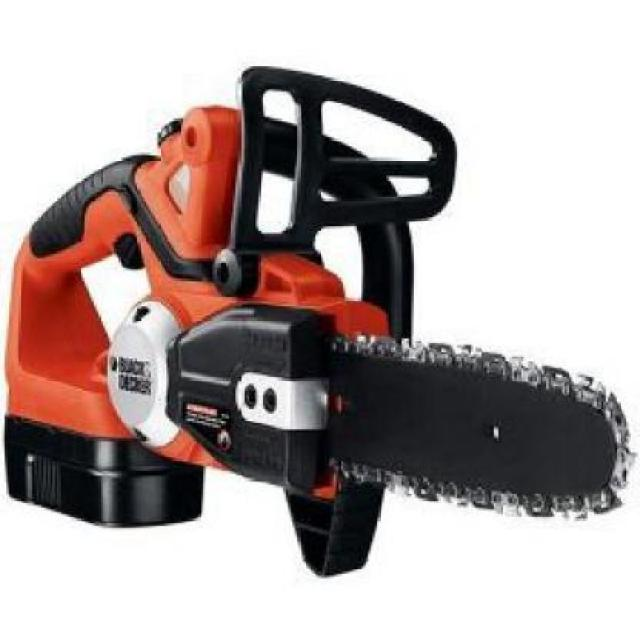Chainsaw: (0, 68, 634, 577)
